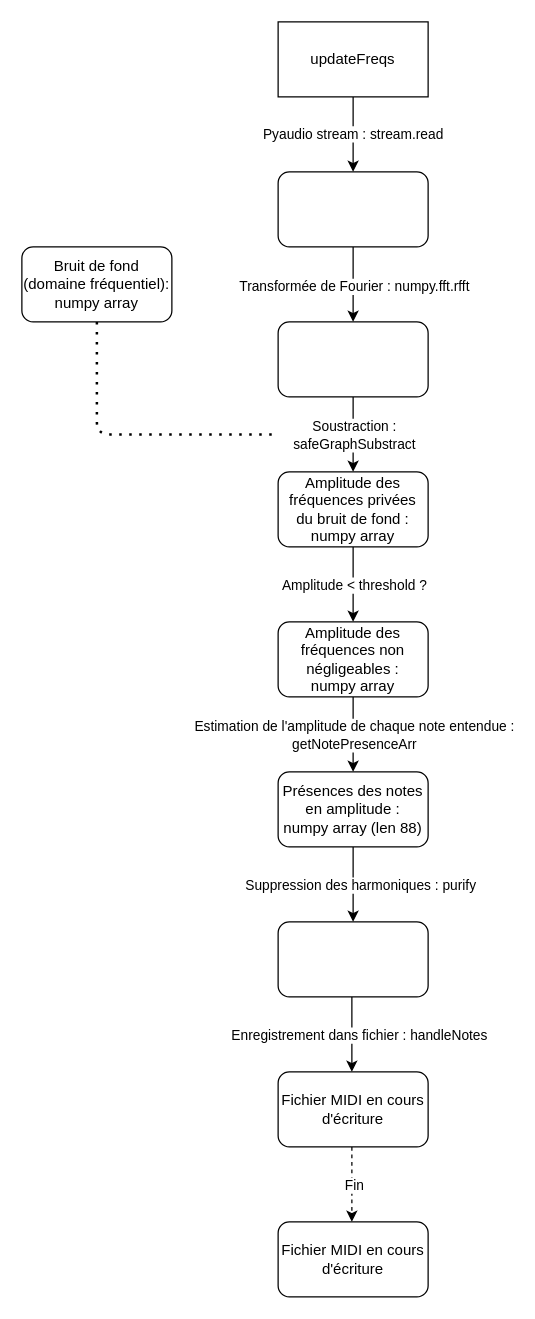
Image size: 535x1319. Some labels were removed from this diagram. The centre of each missing label's shape, as x and y in pixels:
"Données micro (domaine fréquentiel): numpy array" goes at [352,359].
"Données micro (domaine temporel): numpy array" goes at [352,209].
"Liste des notes jouées sur l'instrument dans l'échantillon du micro" goes at [352,959].
